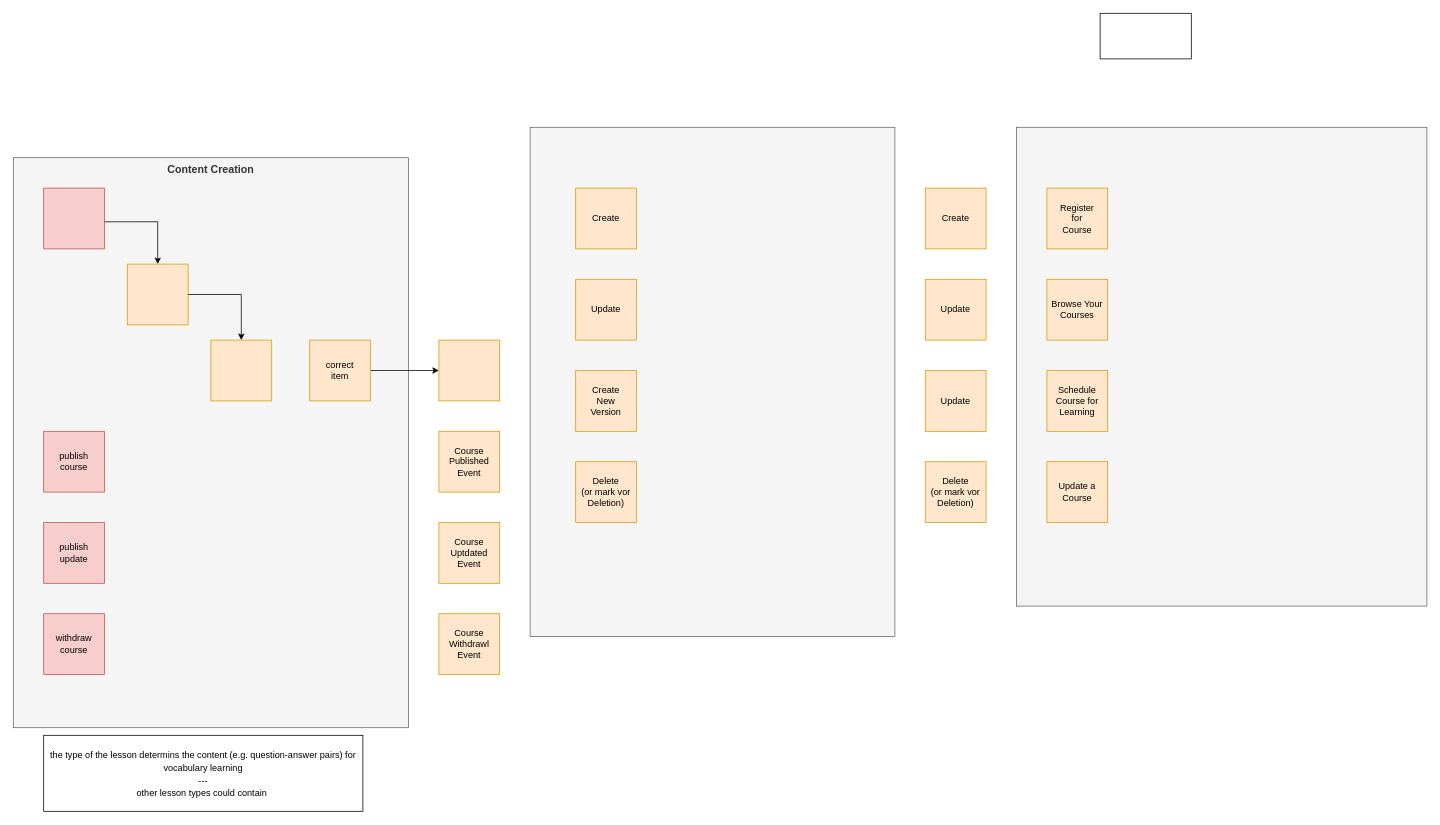
Some shapes in this 1440 by 825 pixel diagram are drawn without their labels. The shapes that lost their labels are listed below. From the top down, each one's box as (x1, y1, x2, y2) in pixels, then its label:
(43, 187, 104, 249): create course
(127, 263, 188, 325): add lesson to course
(210, 339, 272, 401): add item to lesson
(438, 339, 500, 401): Item Correction Event
(529, 127, 895, 636): Content Catalogue (CRUD)
(1016, 127, 1427, 606): My Content
